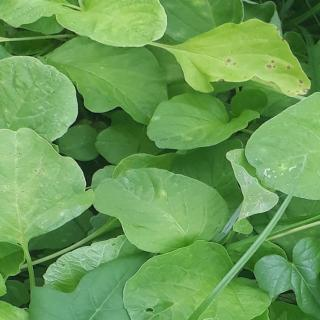karat_putih: (225, 151, 285, 217), (0, 173, 51, 218), (153, 184, 183, 200)
kekurangan_mangan: (262, 54, 296, 78), (284, 78, 314, 96), (217, 53, 245, 70), (216, 76, 231, 82)
